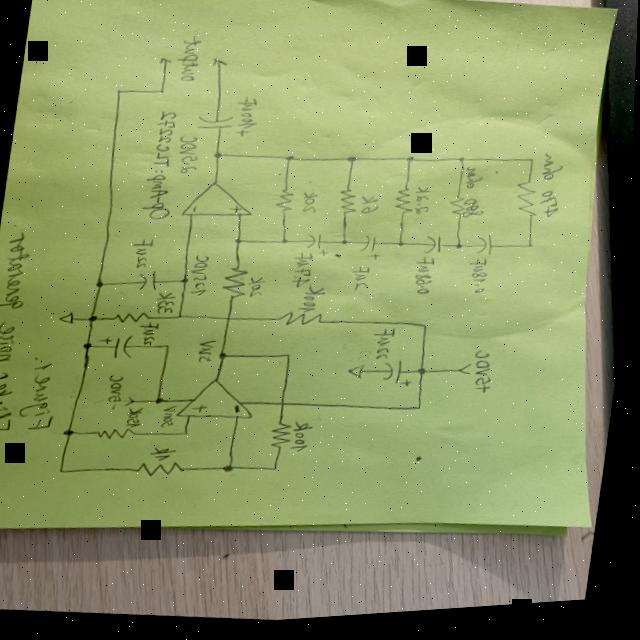capacitor: (196, 112, 254, 142), (98, 332, 139, 363), (382, 362, 418, 393), (359, 237, 385, 266), (307, 236, 334, 261), (138, 269, 162, 294), (475, 239, 498, 264), (423, 238, 446, 261)
crossover: (280, 403, 291, 412), (227, 317, 236, 325)
ground: (349, 366, 369, 385), (59, 309, 79, 326)
junction: (224, 464, 240, 476), (89, 314, 103, 324), (213, 152, 227, 162), (65, 428, 80, 437), (455, 247, 467, 257), (347, 158, 359, 168), (84, 341, 96, 351), (280, 239, 292, 249), (235, 238, 247, 248), (419, 371, 431, 381), (406, 159, 417, 169), (422, 326, 433, 336), (97, 280, 108, 289), (157, 398, 168, 407), (286, 157, 297, 166), (115, 87, 126, 96), (416, 408, 427, 417), (221, 353, 232, 362), (273, 467, 284, 476), (341, 242, 352, 250), (182, 278, 191, 287), (527, 248, 537, 256), (158, 89, 168, 97), (286, 354, 296, 362), (397, 245, 408, 252), (529, 162, 538, 170), (60, 468, 70, 475), (184, 432, 194, 439), (459, 162, 468, 169), (179, 315, 186, 322), (167, 345, 174, 351)
resistor: (136, 457, 190, 483), (278, 310, 329, 334), (514, 184, 543, 226), (221, 265, 253, 303), (271, 423, 297, 454), (113, 309, 153, 329), (393, 191, 417, 220), (275, 188, 299, 217), (98, 426, 136, 444), (338, 190, 361, 219), (448, 200, 469, 223)
terminal: (461, 366, 476, 382), (211, 58, 228, 71), (127, 395, 139, 409), (158, 57, 174, 67)
text: (0, 219, 43, 435), (141, 108, 186, 224), (20, 353, 64, 436), (537, 157, 570, 227), (460, 170, 492, 226), (176, 37, 206, 85), (472, 353, 501, 401), (175, 134, 204, 180), (413, 260, 440, 302), (191, 255, 214, 301), (105, 373, 129, 414), (371, 332, 399, 367), (467, 264, 493, 301), (299, 286, 329, 318), (291, 255, 316, 293), (130, 236, 156, 271), (293, 422, 317, 459), (238, 97, 262, 132), (412, 189, 434, 222), (140, 319, 164, 349), (350, 268, 374, 297), (198, 339, 220, 366), (152, 444, 180, 465), (156, 293, 179, 318), (127, 404, 148, 431), (361, 197, 383, 220), (303, 192, 321, 219), (250, 277, 269, 302), (163, 407, 180, 431), (194, 405, 213, 416), (228, 206, 246, 217), (232, 405, 246, 418), (190, 205, 202, 215)
